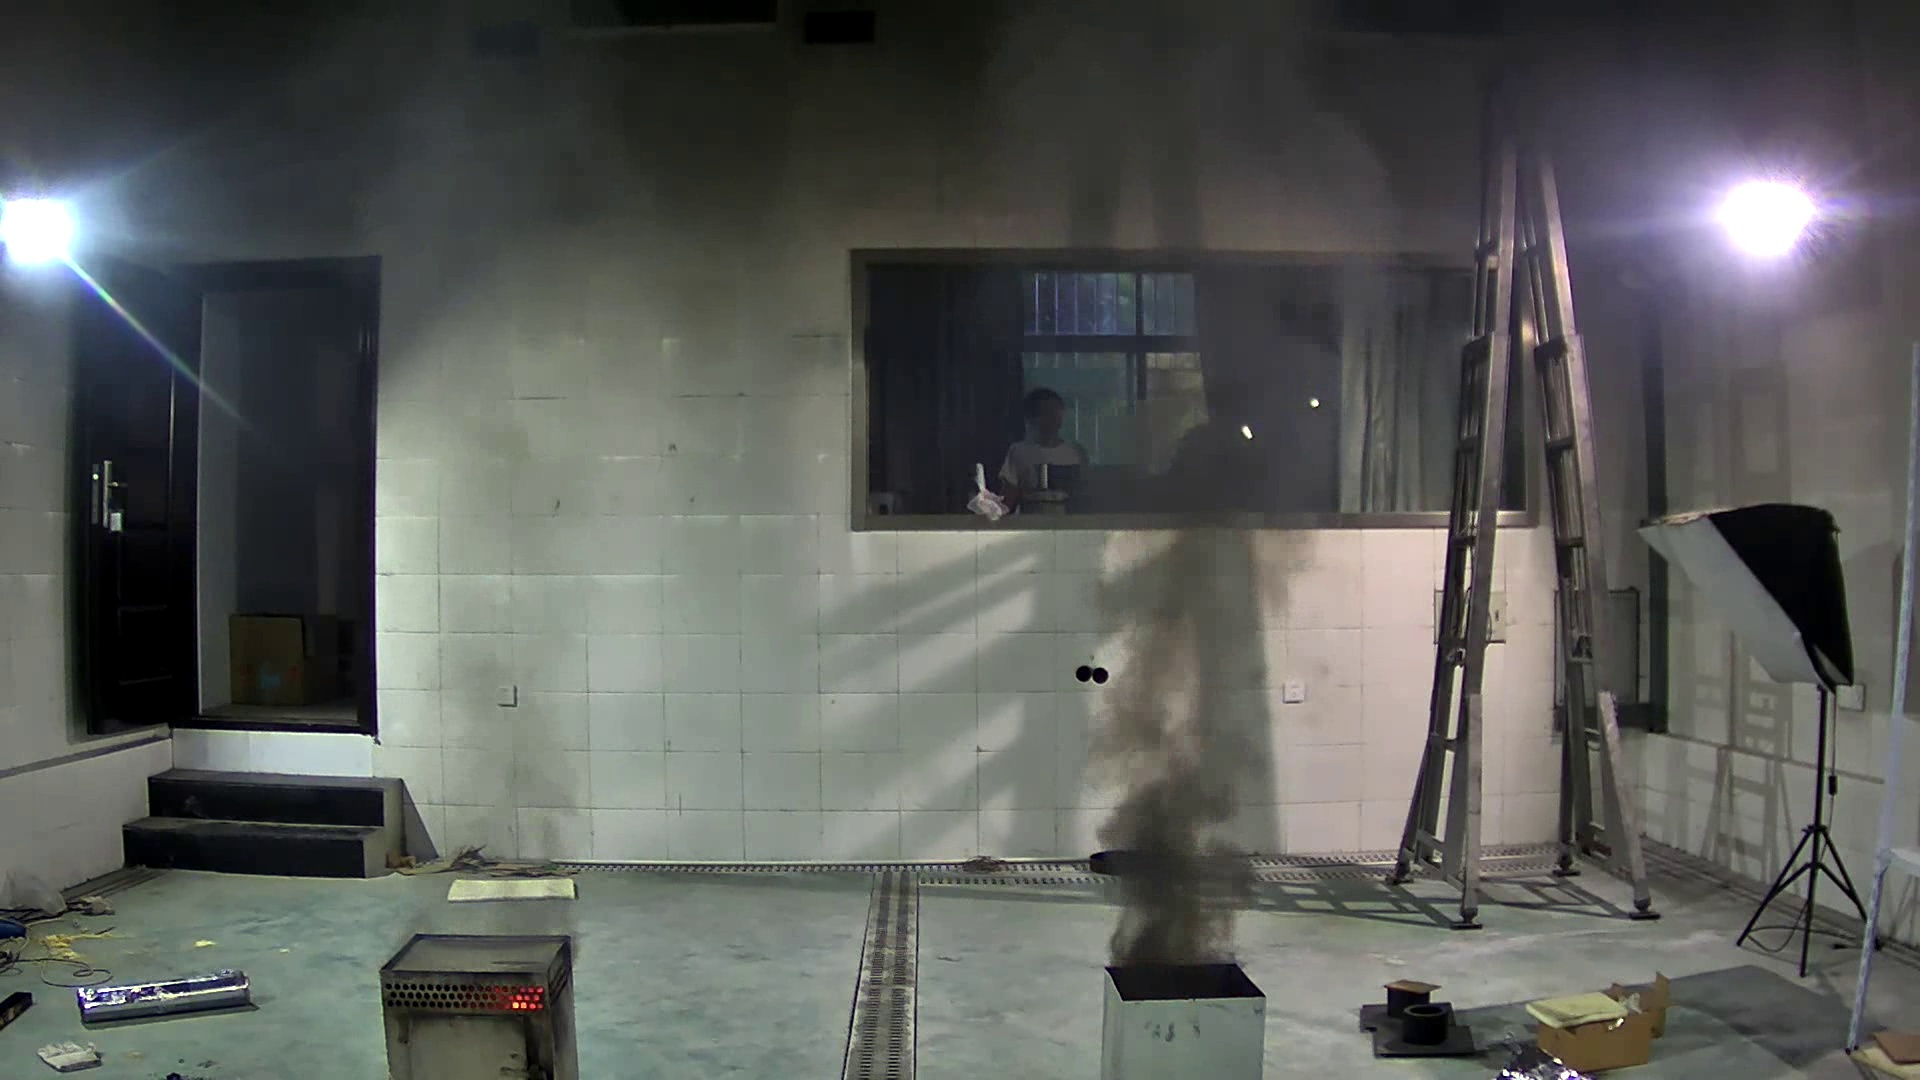smoke: (1087, 447, 1275, 976)
